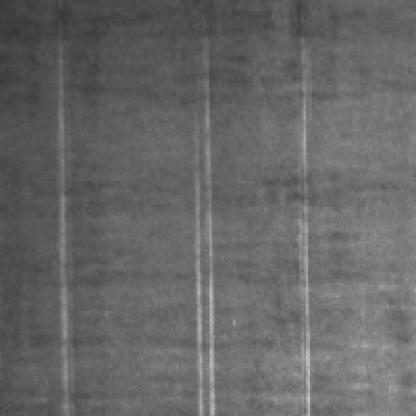scratches: (185, 71, 216, 416), (48, 46, 73, 412), (289, 52, 312, 416)
